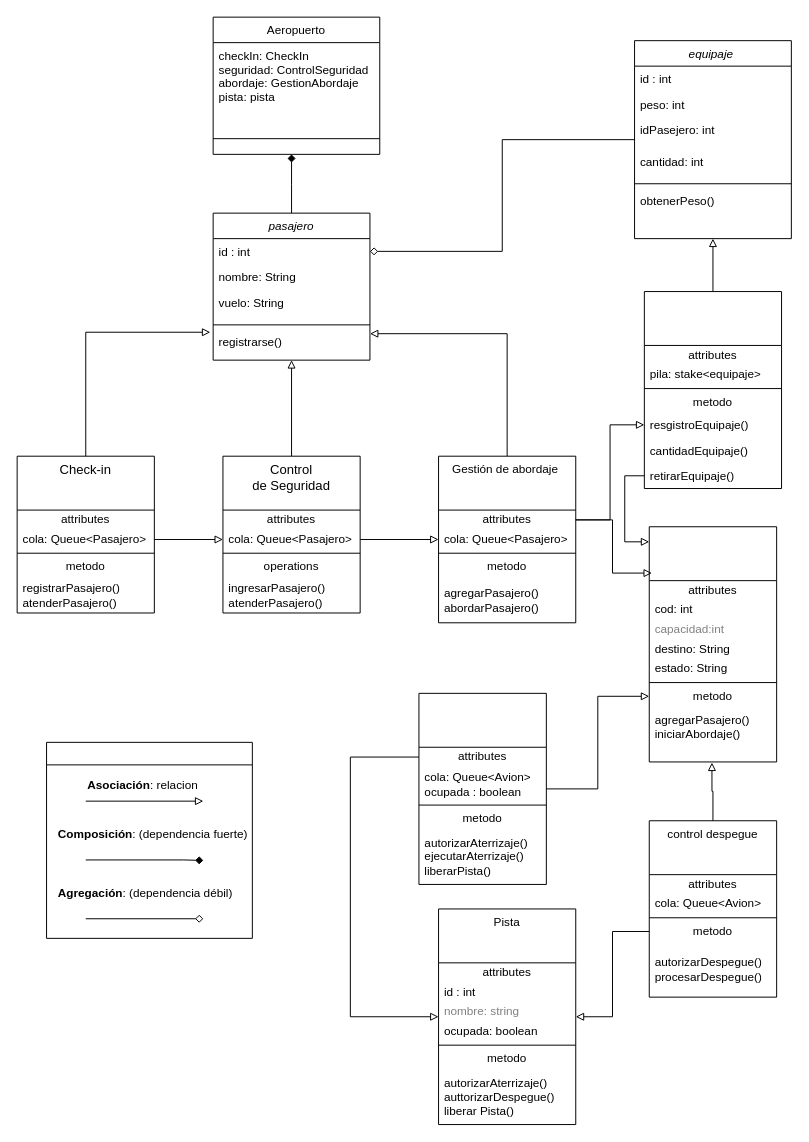
The diagram is 809 pixels wide and 1142 high, and some of its shapes have lost their labels. The shapes that lost their labels are listed below. From the top down, each one's box as (x1, y1, x2, y2) in pixels, then its label:
(643, 291, 782, 489): Gestión de equipaje
(648, 526, 777, 762): aviones
(418, 692, 546, 884): control aterrizaje
(46, 741, 252, 938): conectores
